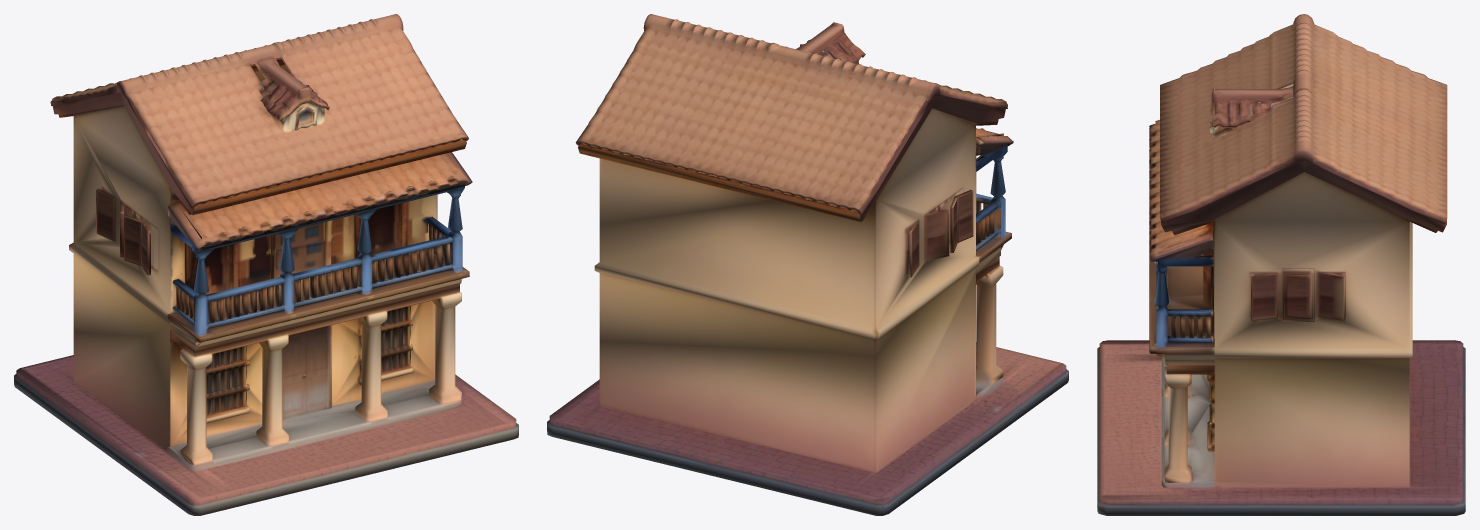
File: CasaTrad1.fbx
3 renders of one model, left to right at view 1: azimuth 30°, elevation 25°; view 2: azimuth 150°, elevation 25°; view 3: azimuth 270°, elevation 25°, orthographic. The views are drawn at different scales.
Visible parts, largest first — view 1: mesh_rep_0_ori_repair_quad; view 2: mesh_rep_0_ori_repair_quad; view 3: mesh_rep_0_ori_repair_quad.
Boxes of the visible parts, <box> form: mesh_rep_0_ori_repair_quad: <box>14,14,518,515</box>; mesh_rep_0_ori_repair_quad: <box>547,14,1068,515</box>; mesh_rep_0_ori_repair_quad: <box>1097,14,1465,515</box>.
Size of the model in its own units: 70.69 by 72.29 by 67.87.
Materials: 1 (1 with a texture image).
